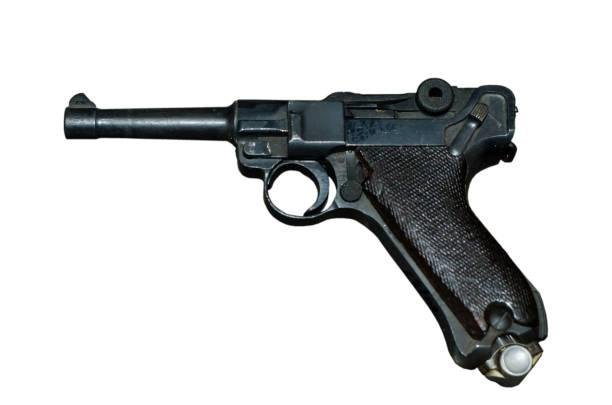weapon: (55, 75, 550, 388)
